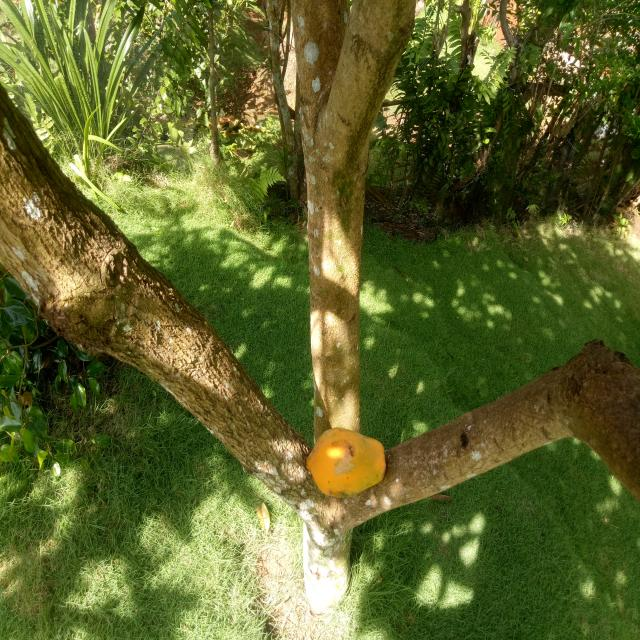Pepaya rippen: (296, 419, 391, 500)
